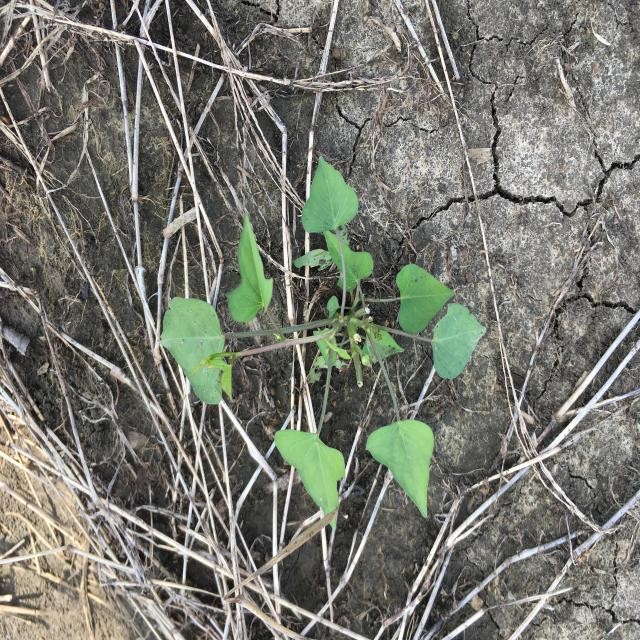MorningGlory: (158, 152, 489, 534)
